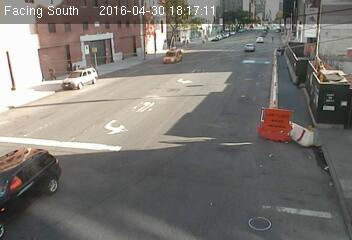neg: (228, 80, 241, 98), (268, 64, 279, 80), (231, 98, 240, 110), (249, 50, 257, 61), (161, 110, 166, 117)
pos: (43, 64, 58, 84), (62, 61, 73, 76), (270, 34, 276, 42)
